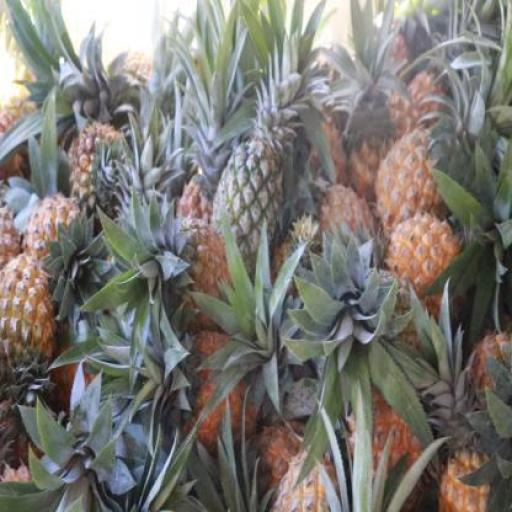Pineapple - v8 v1: (0, 256, 57, 383), (376, 136, 446, 238), (388, 214, 461, 302)
